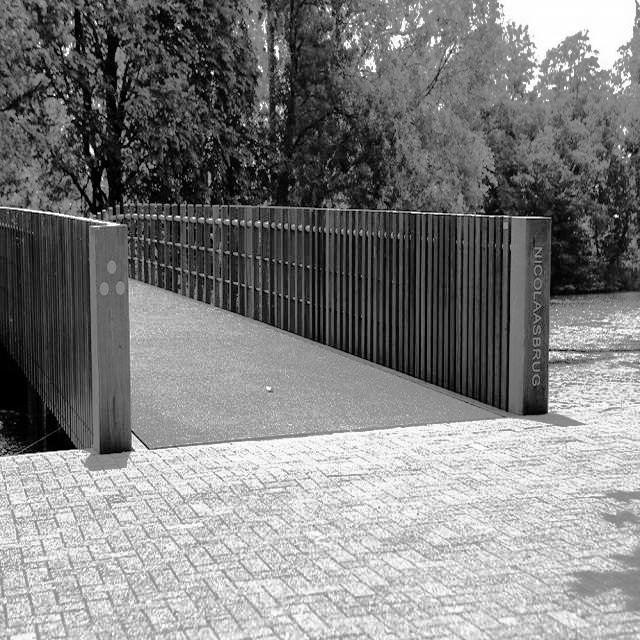fences: (338, 222, 511, 394), (138, 208, 314, 346), (5, 219, 94, 434)
